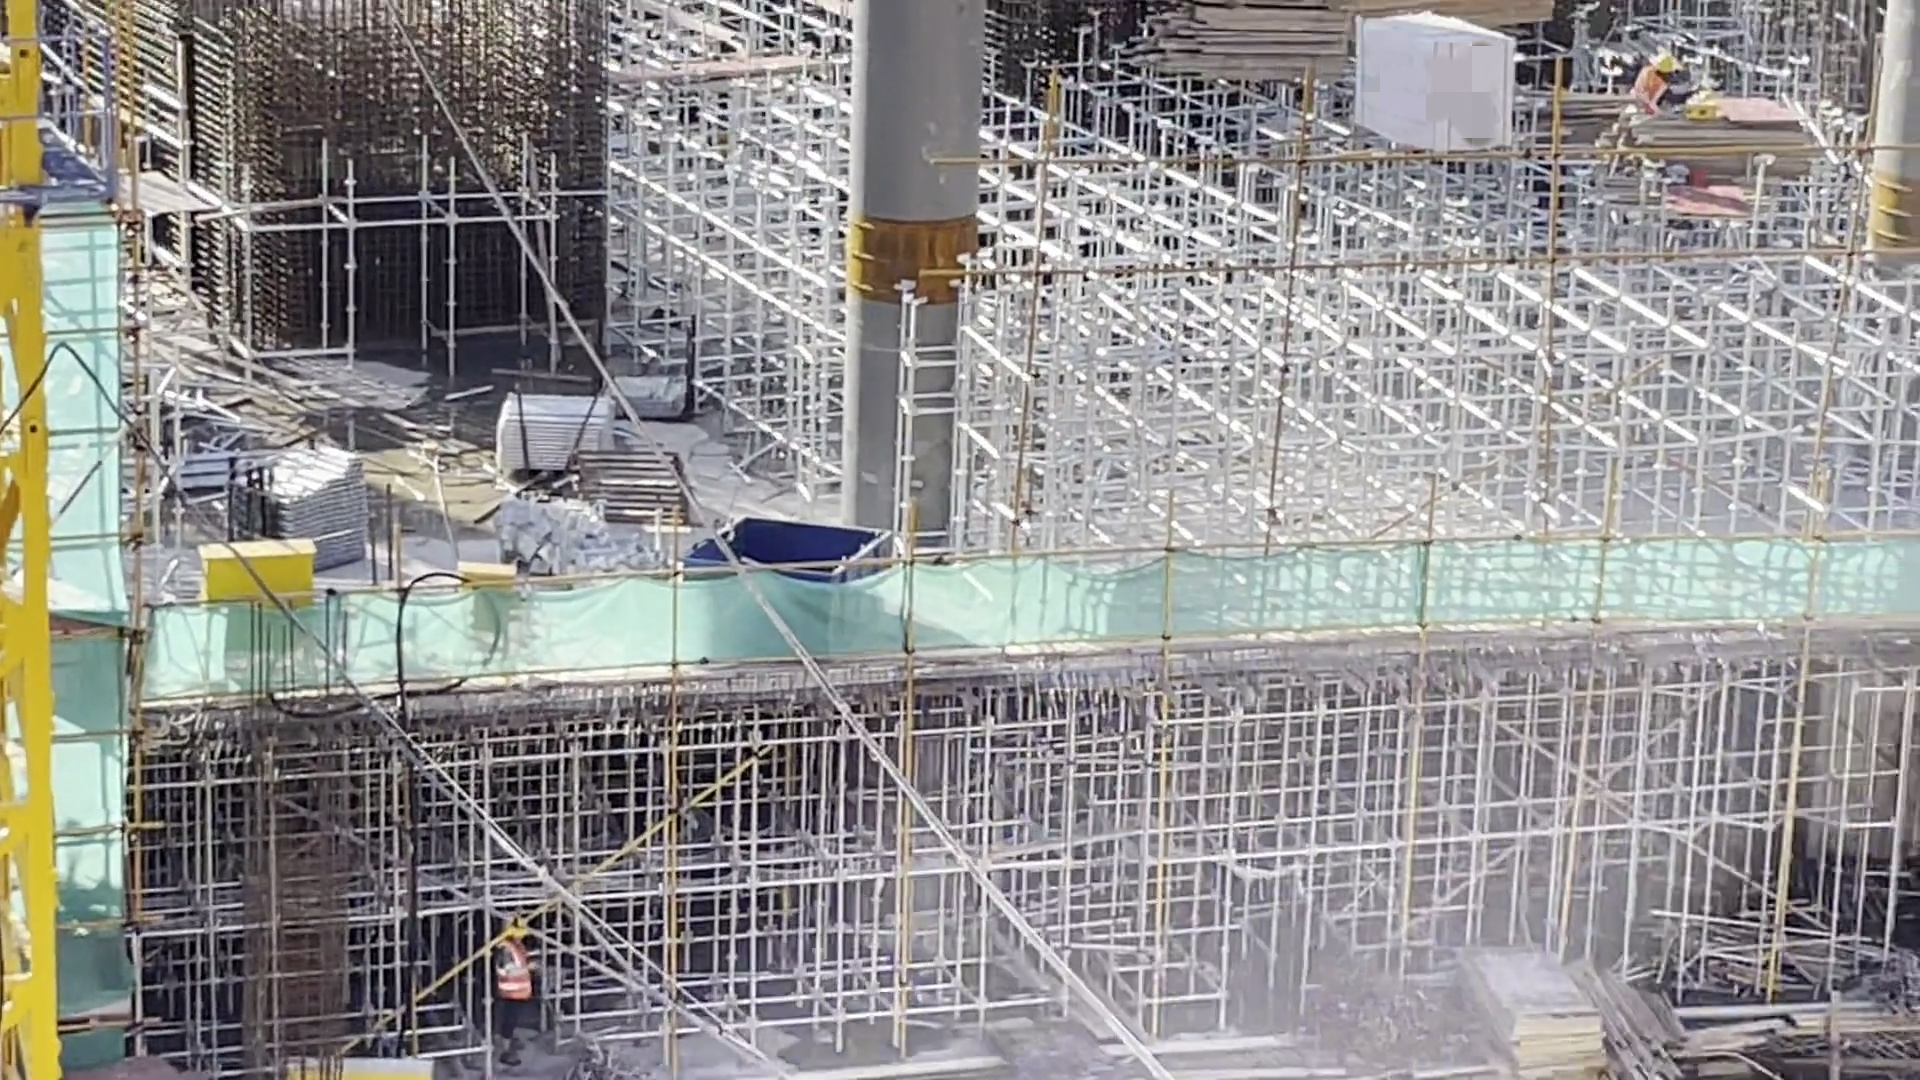board: (1643, 92, 1836, 196), (1449, 942, 1589, 1080)
ebox: (208, 531, 351, 647), (446, 587, 539, 692)
helmet: (506, 906, 528, 944), (1645, 52, 1676, 76)
hopper: (711, 506, 886, 627)
person: (494, 893, 541, 1051), (1629, 46, 1682, 115)
scaffold: (196, 446, 403, 554), (488, 392, 643, 476)
vest: (499, 951, 538, 1004), (1629, 74, 1668, 111)
wood: (1144, 1, 1339, 74)
